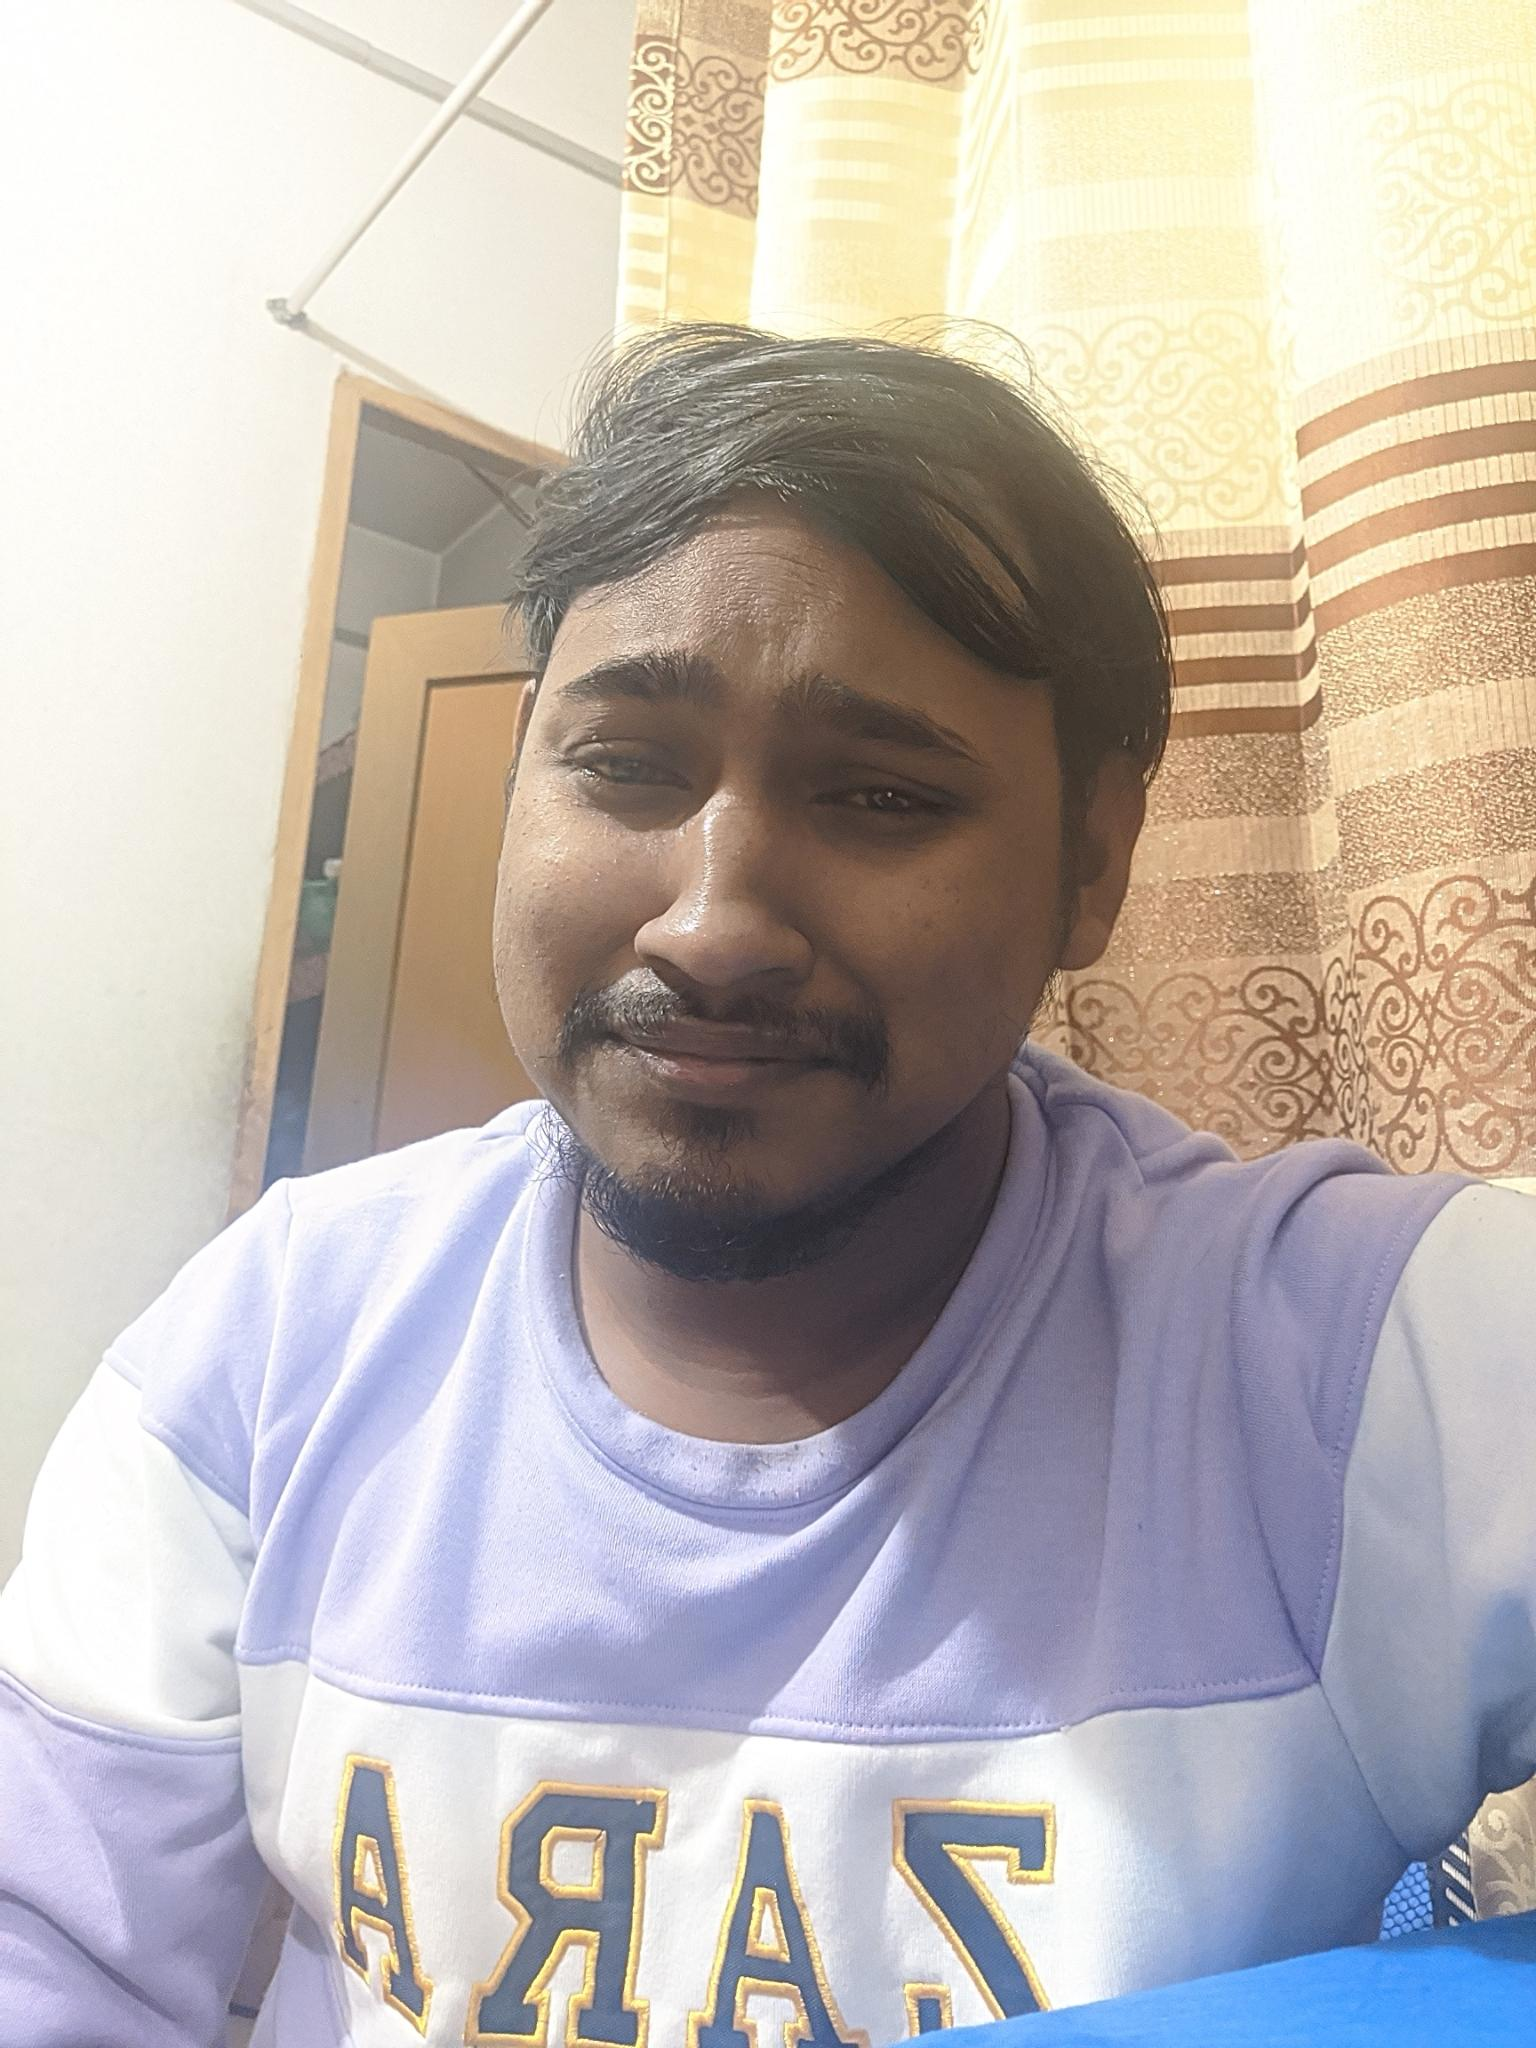Sad: (494, 579, 1020, 1234)
